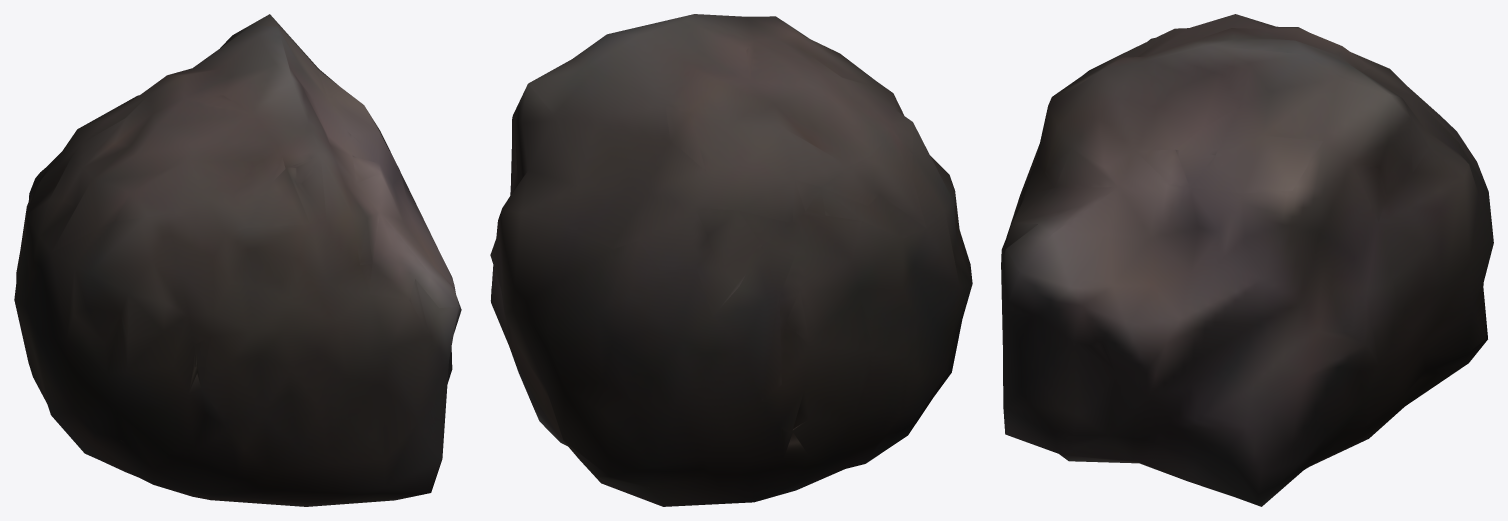
File: basalt.glb
3 renders of one model, left to right at view 1: azimuth 30°, elevation 25°; view 2: azimuth 150°, elevation 25°; view 3: azimuth 270°, elevation 25°, orthographic. The views are drawn at different scales.
Visible parts, largest first — view 1: model; view 2: model; view 3: model.
Part boxes in pixels (x1,y1,x2,y2): model: [14, 14, 461, 506]; model: [490, 14, 972, 506]; model: [1001, 14, 1493, 506].
Bounding box in the file's own units: 0.3682 × 0.3731 × 0.3954.
Materials: 1 (1 with a texture image).
